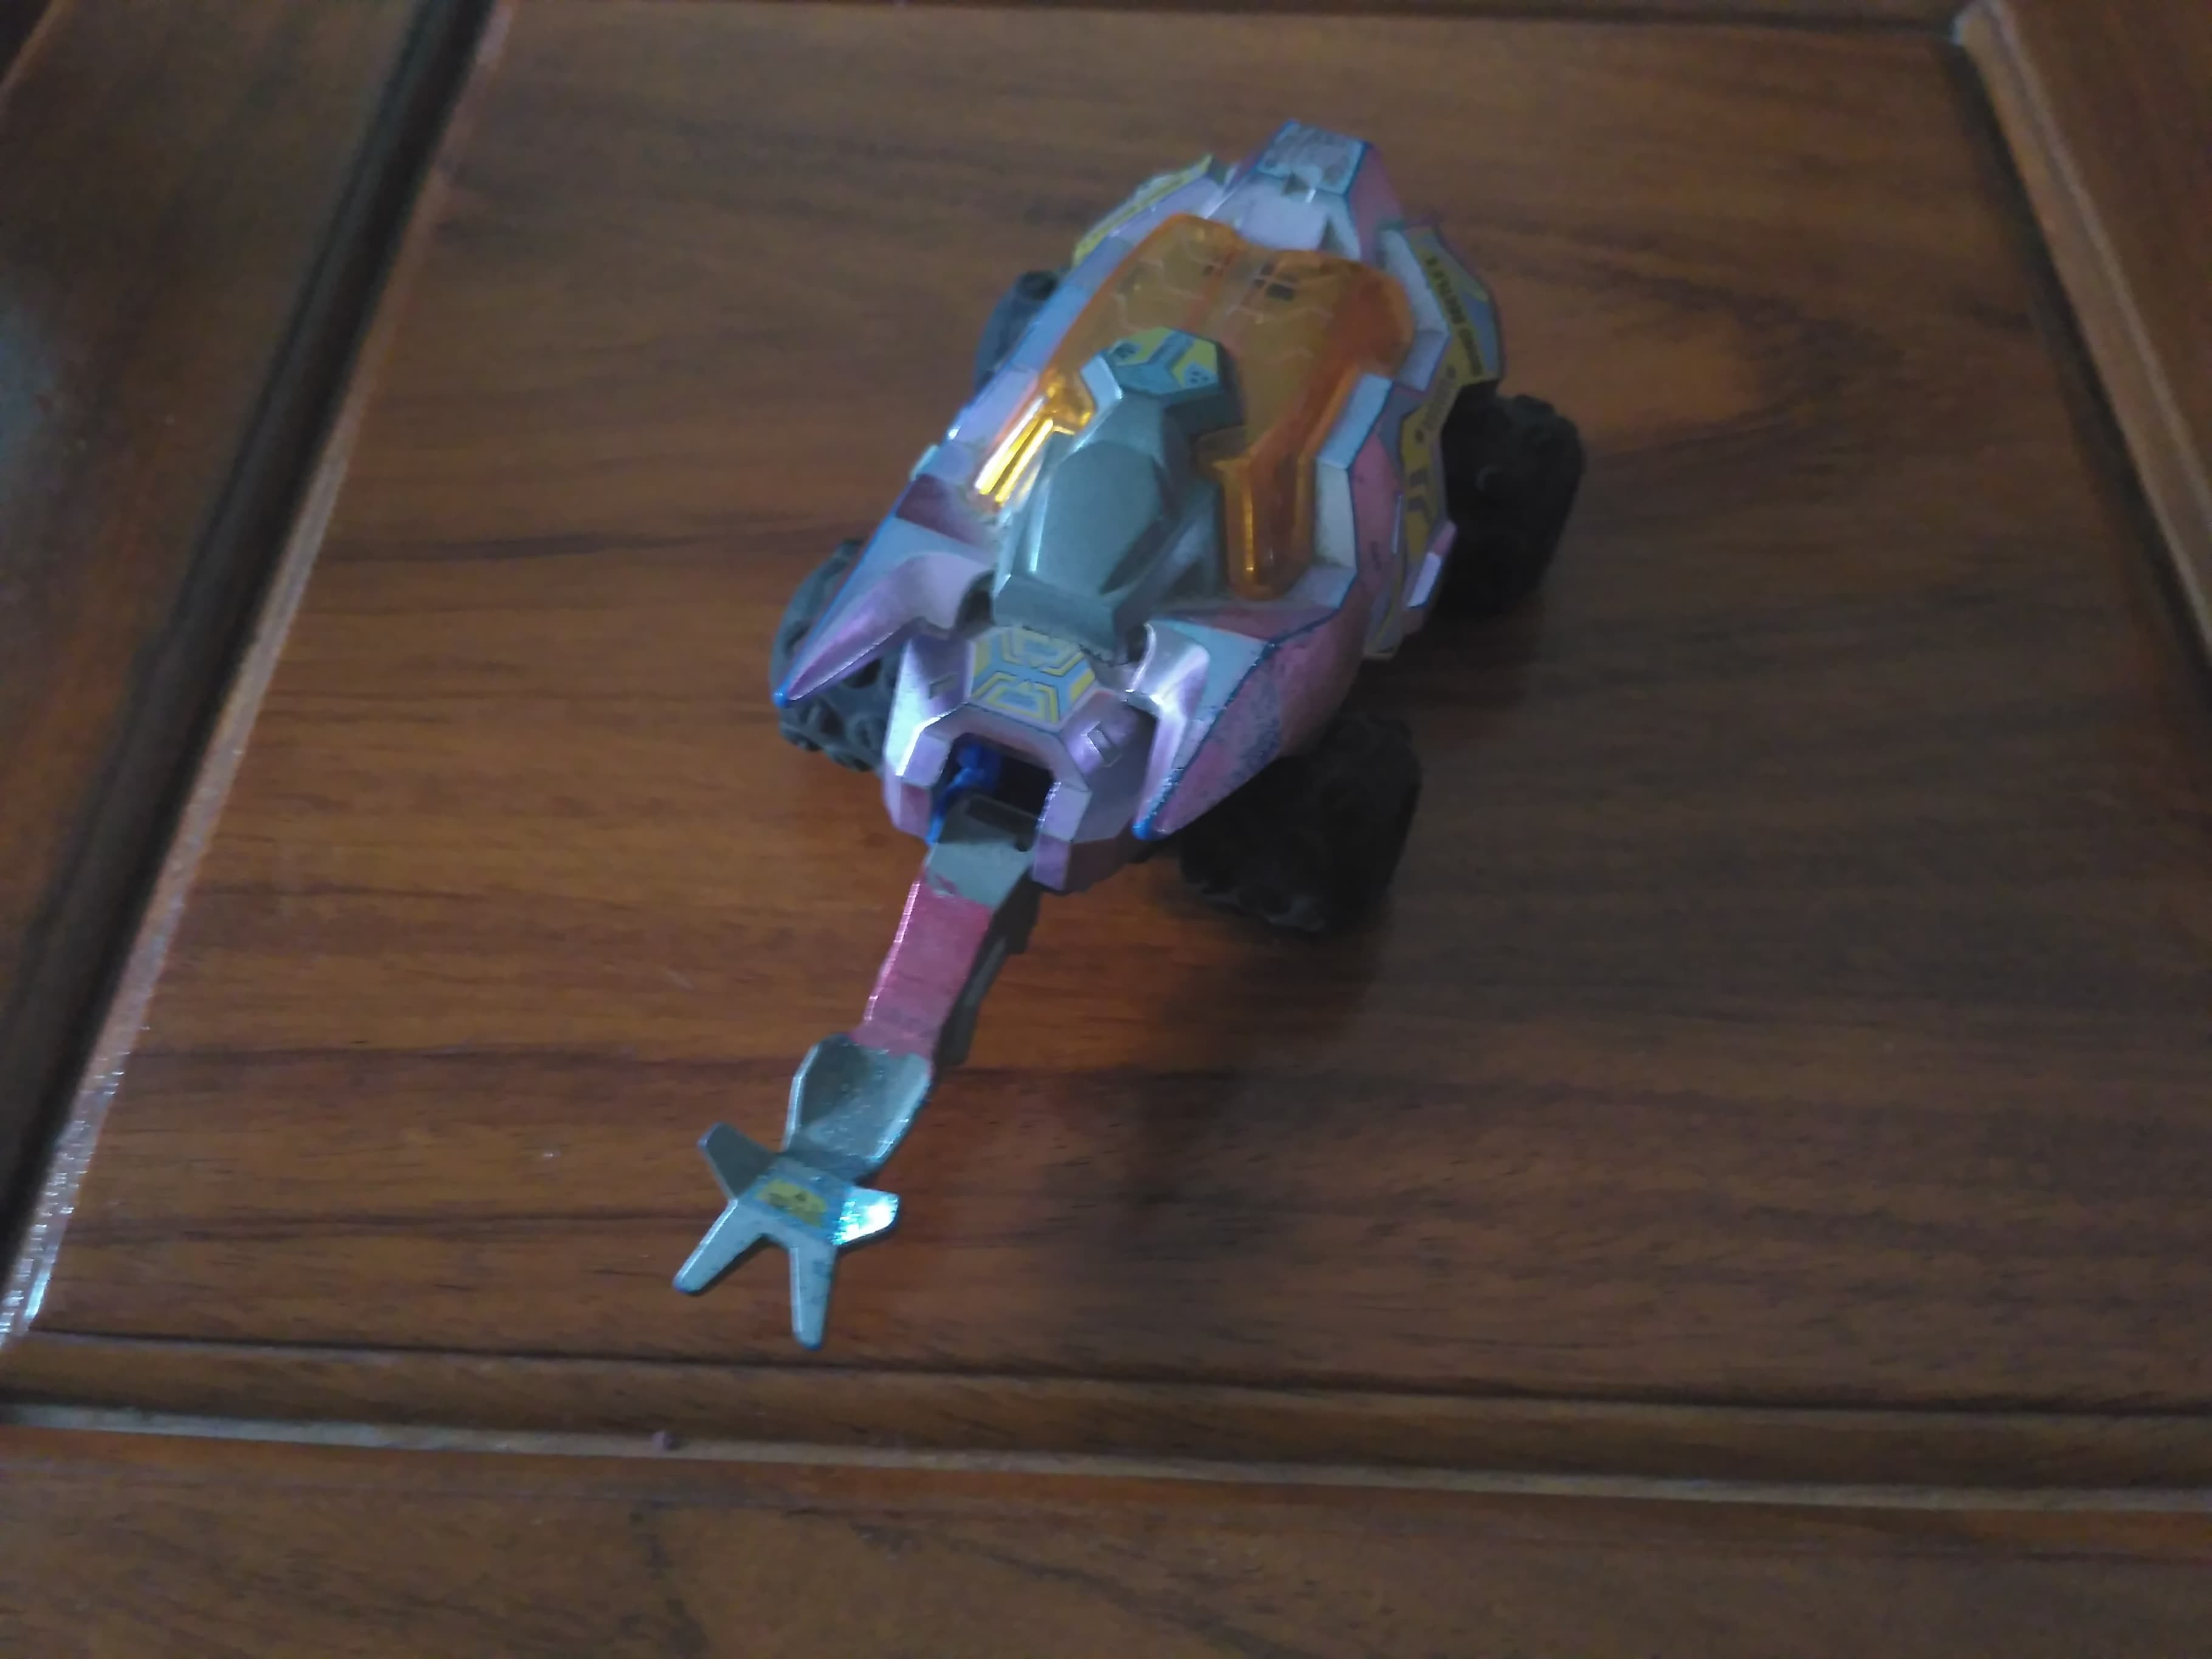rhino: (653, 110, 1602, 1354)
